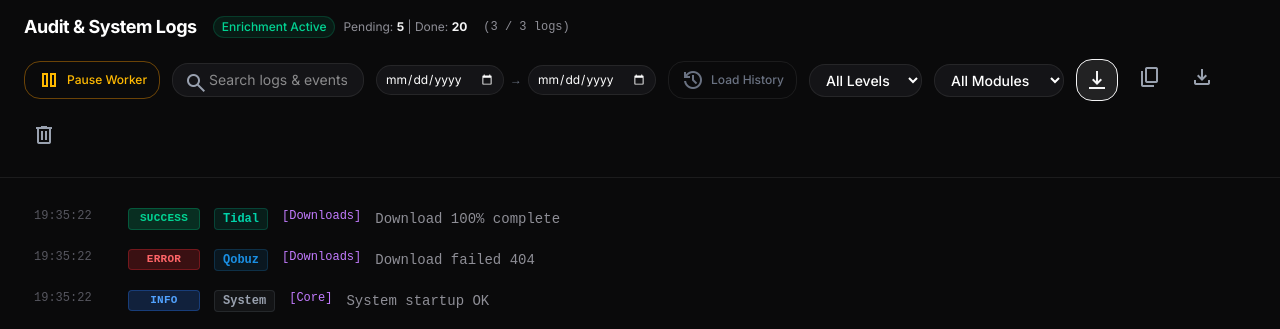
Test: LogsView.vue › filters logs by severity level
Select "ERROR" in the 1st dropdown at (866, 80), box [809,64,922,96]
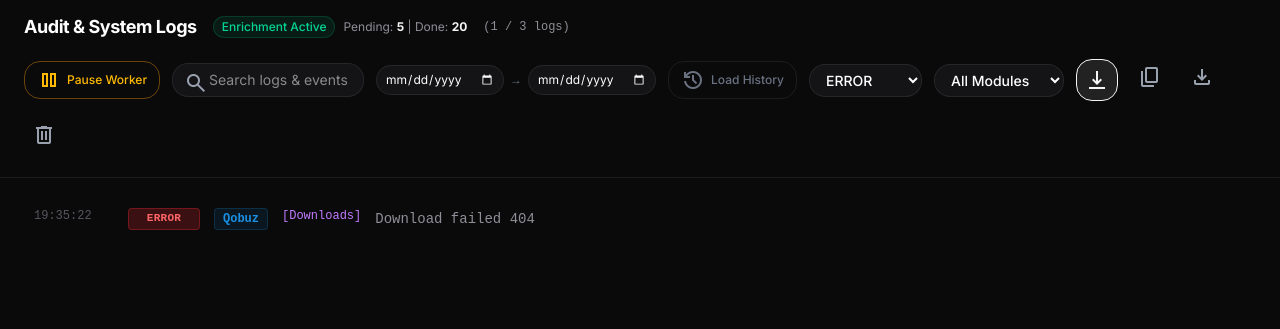
Expected: the text "Download failed 404" is shown, [375,211,535,227]
Now the text "System startup OK" is gone
Now the text "Download 100% complete" is gone
Note: Filter by SUCCESS
Select "SUCCESS" in the 1st dropdown at (866, 80), box [809,64,922,96]
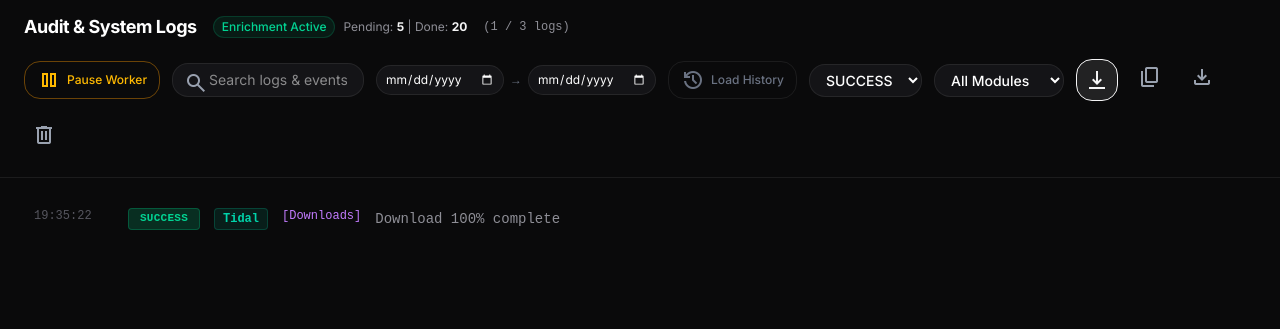
Now the text "Download 100% complete" is shown, box [375,211,560,227]
Now the text "Download failed 404" is gone
